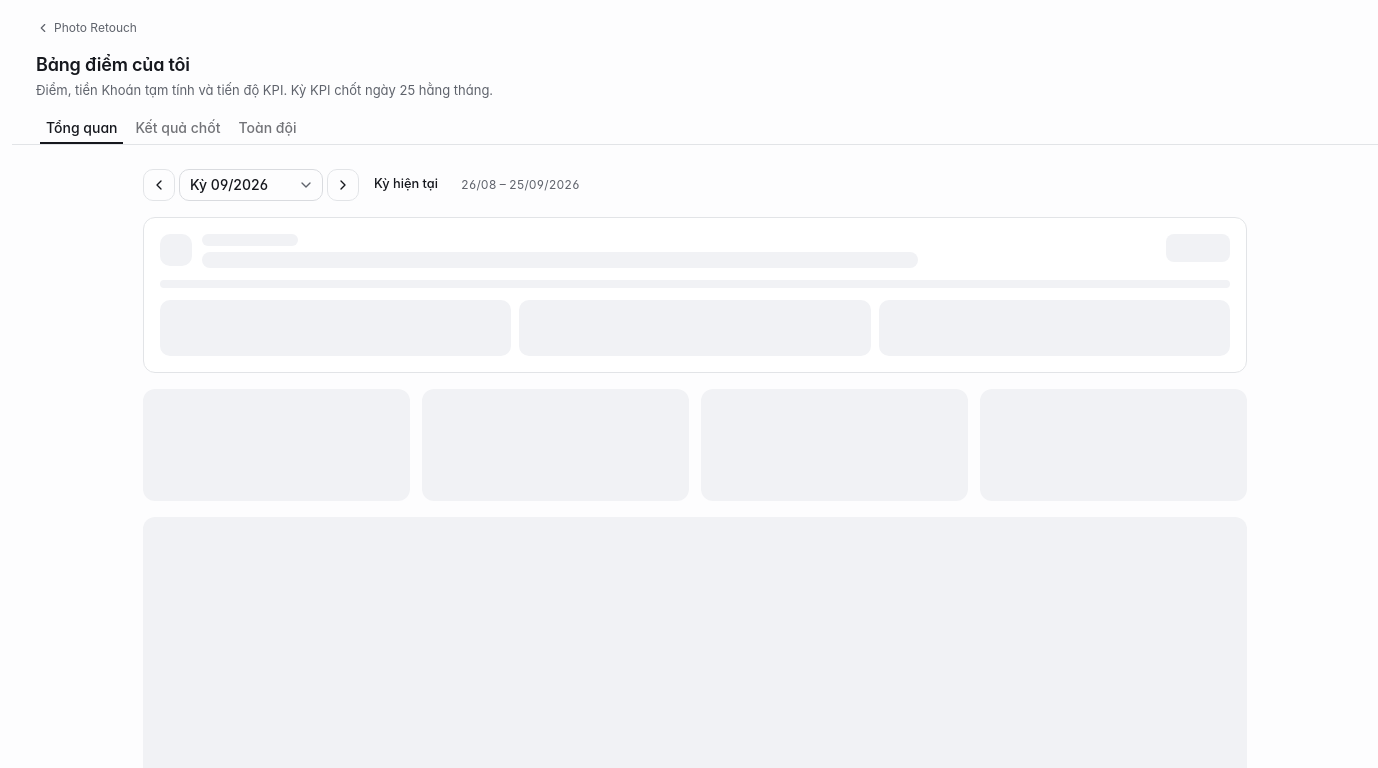
Test: PD-069 — Bảng điểm → Toàn đội › opens from the Toàn đội tab (?tab=team, the period shared); no team filter, an old ?team= is ignored
Click the tab "Toàn đội" at (268, 128), box [232,115,304,140]
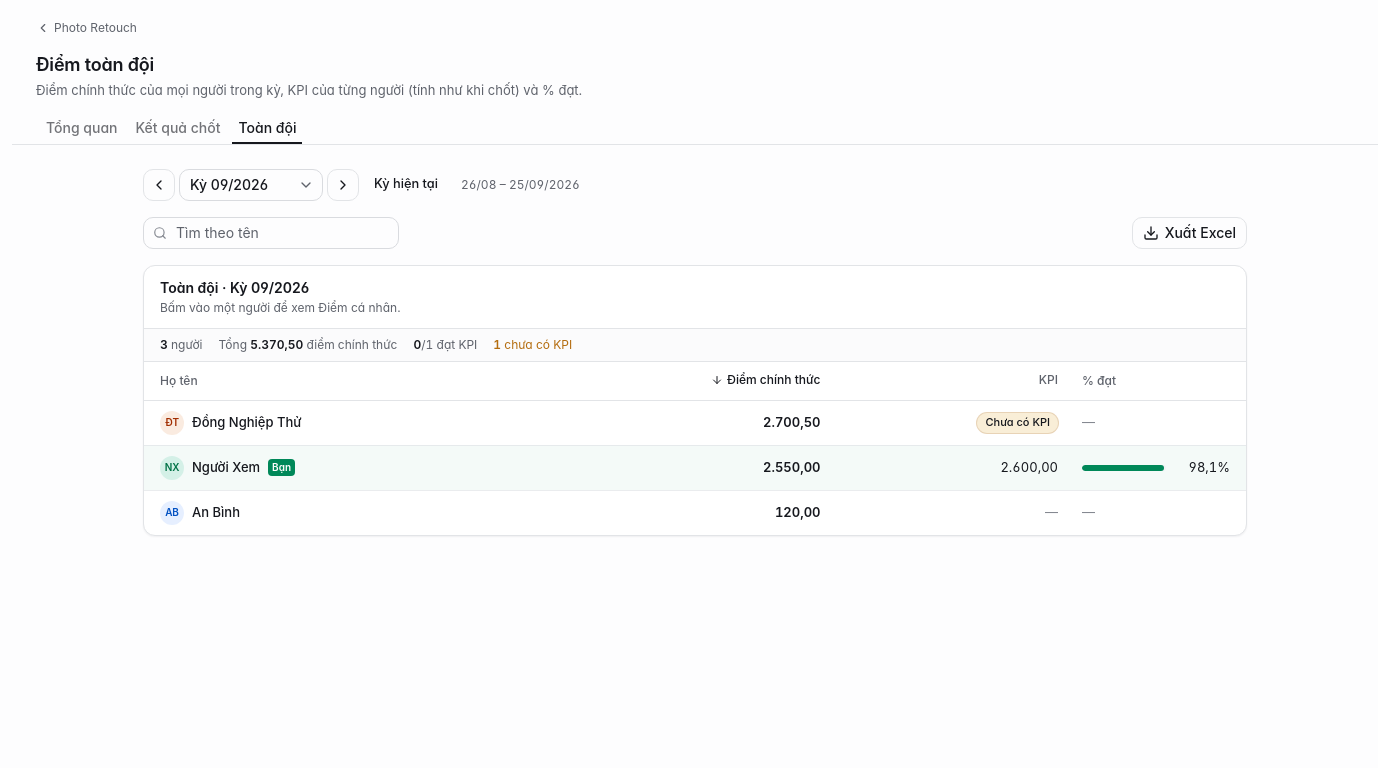
Check: the table is shown, box [144,362,1246,535]
Click the tab "Tổng quan" at (82, 128), box [39,115,124,140]
(page scrolled)
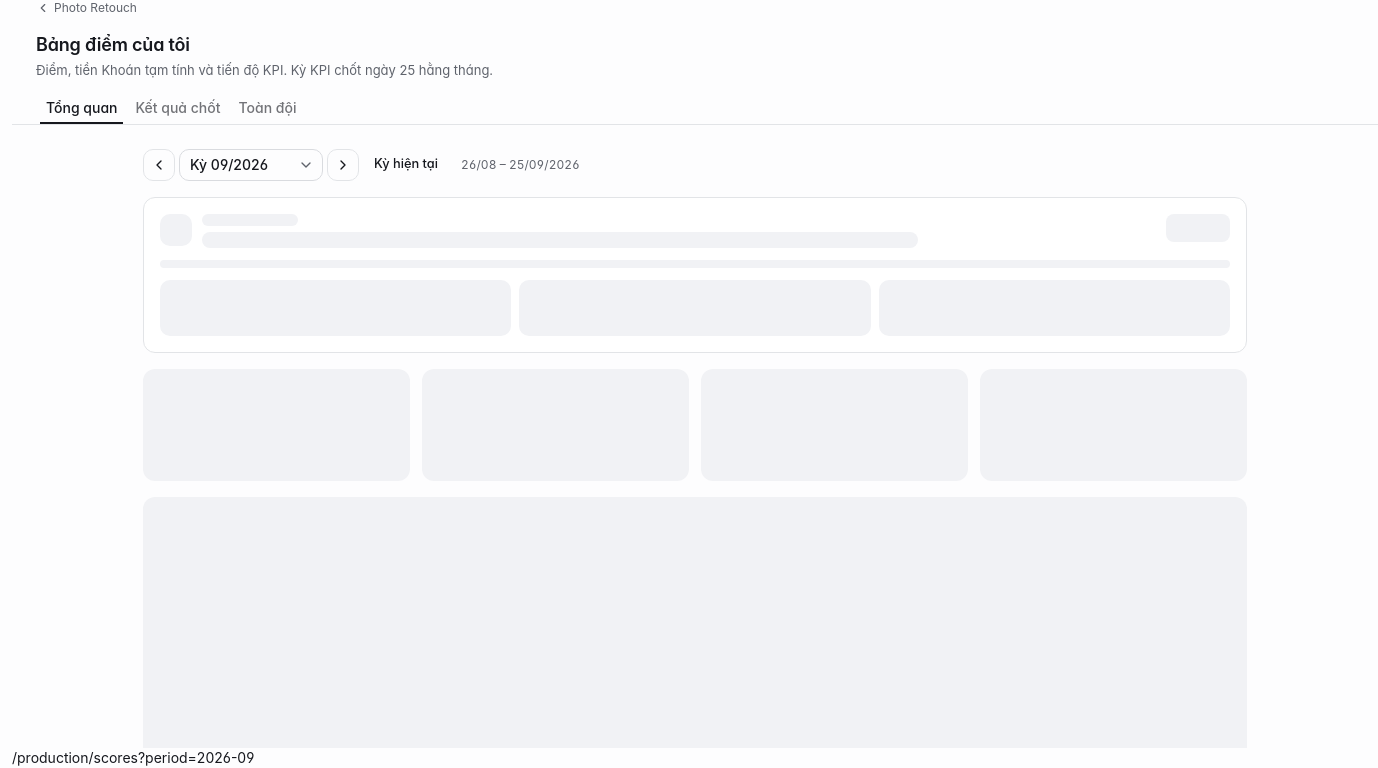
Check: the text with test id "where" reads "/production/scores?period=2026-09", box [12,749,254,766]
